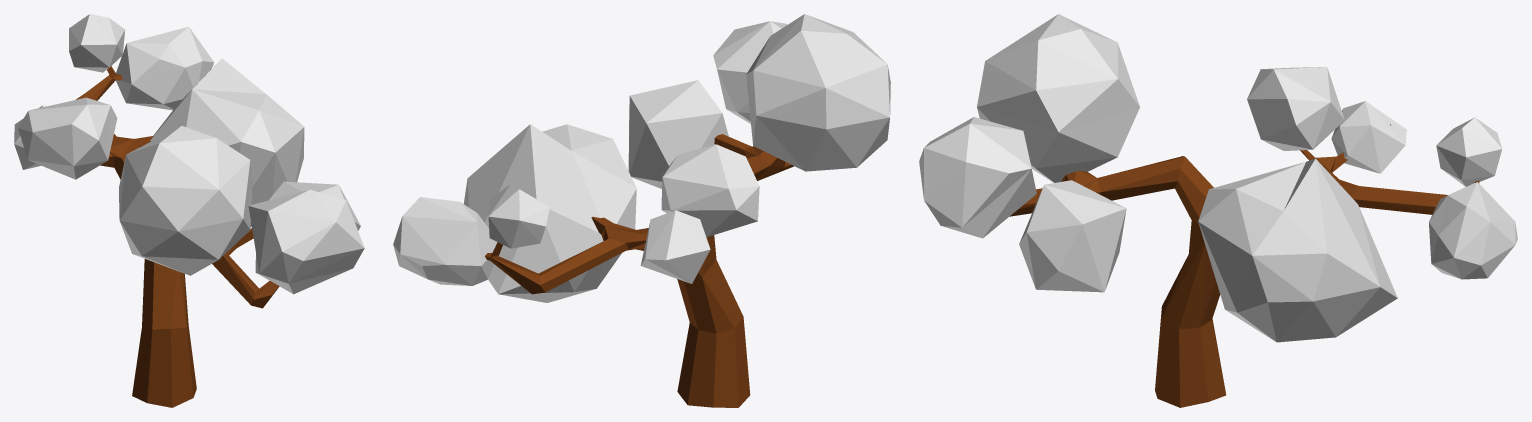
Rendered from Tree1.fbx.
The picture shows the model from 3 angles, left to right: view 1: azimuth 30°, elevation 25°; view 2: azimuth 150°, elevation 25°; view 3: azimuth 270°, elevation 25°; orthographic projection. The views are drawn at different scales.
Parts seen in each view (by area): view 1: Icosphere.001, Cube, Icosphere.005, Icosphere, Icosphere.003, Icosphere.006, Icosphere.007, Icosphere.002, Icosphere.004; view 2: Icosphere.001, Icosphere.005, Cube, Icosphere.006, Icosphere.002, Icosphere.003, Icosphere.004, Icosphere, Icosphere.007; view 3: Icosphere.005, Icosphere.001, Cube, Icosphere, Icosphere.002, Icosphere.003, Icosphere.006, Icosphere.004, Icosphere.007.
Boxes of the visible parts, x1,y1,x2,y2 form: Icosphere.001: [119, 125, 252, 275]; Cube: [76, 66, 279, 407]; Icosphere.005: [150, 58, 304, 226]; Icosphere: [248, 189, 364, 294]; Icosphere.003: [18, 97, 117, 179]; Icosphere.006: [115, 26, 214, 110]; Icosphere.007: [69, 14, 124, 72]; Icosphere.002: [269, 181, 360, 230]; Icosphere.004: [14, 105, 46, 169]; Icosphere.001: [746, 14, 890, 171]; Icosphere.005: [464, 124, 636, 302]; Cube: [485, 134, 793, 407]; Icosphere.006: [393, 197, 497, 285]; Icosphere.002: [628, 80, 728, 188]; Icosphere.003: [661, 144, 759, 237]; Icosphere.004: [640, 210, 710, 283]; Icosphere: [713, 21, 787, 123]; Icosphere.007: [488, 184, 549, 248]; Icosphere.005: [1198, 158, 1397, 342]; Icosphere.001: [977, 14, 1139, 182]; Cube: [1010, 124, 1479, 407]; Icosphere: [919, 117, 1036, 238]; Icosphere.002: [1019, 180, 1126, 292]; Icosphere.003: [1247, 67, 1344, 150]; Icosphere.006: [1429, 182, 1517, 279]; Icosphere.004: [1331, 101, 1406, 173]; Icosphere.007: [1436, 117, 1501, 186].
Size of the model in its own units: 439 by 465 by 724.
